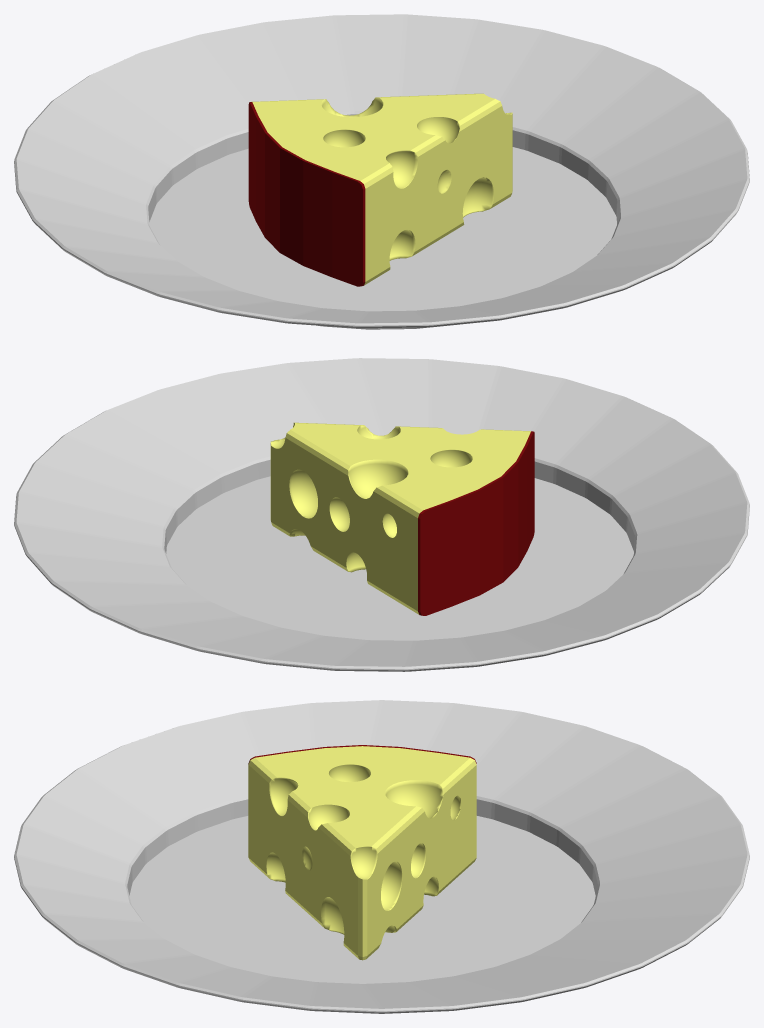
Rendered from cheese.gltf.
3 renders of one model, top to bottom at view 1: azimuth 30°, elevation 25°; view 2: azimuth 150°, elevation 25°; view 3: azimuth 270°, elevation 25°, orthographic.
Parts seen in each view (by area): view 1: Plate, Cheese, Crust; view 2: Plate, Cheese, Crust; view 3: Plate, Cheese.
Part boxes in pixels (box(x1,y1,x2,y2)): Plate: box(14, 14, 749, 329); Cheese: box(251, 93, 512, 285); Crust: box(248, 102, 365, 286); Plate: box(14, 358, 749, 671); Cheese: box(270, 422, 530, 614); Crust: box(418, 431, 534, 615); Plate: box(14, 700, 749, 1013); Cheese: box(248, 746, 476, 960).
Bounding box in the file's own units: 645 × 103 × 645.
